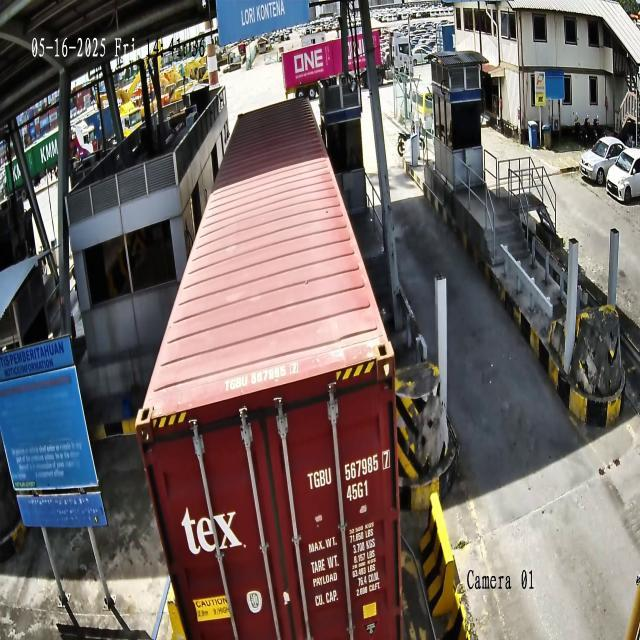ISO: (346, 479, 369, 504)
container_number: (306, 449, 390, 490)
